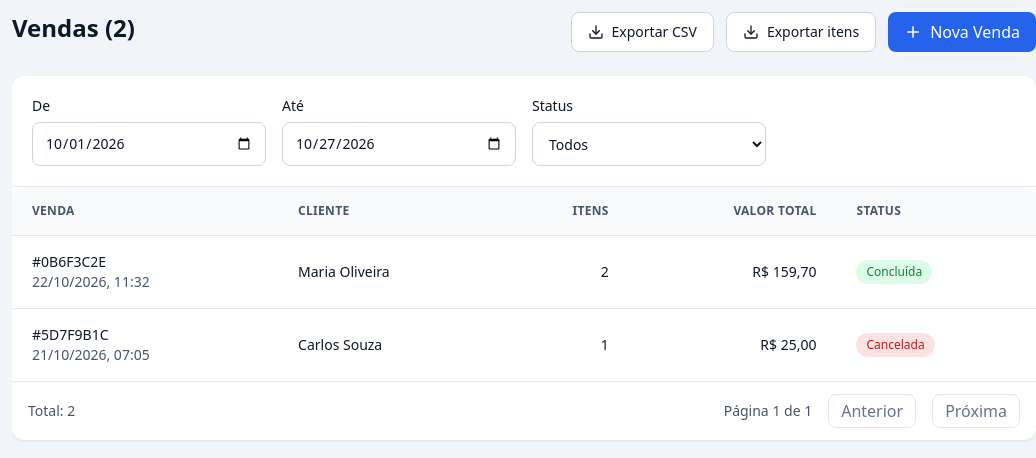
Test case: SaleListPage: período e status na lista › período inválido não consulta a lista
Type "2020-01-01" into the date field labelled "De" at (149, 144), box left=32, top=122, right=266, bottom=166
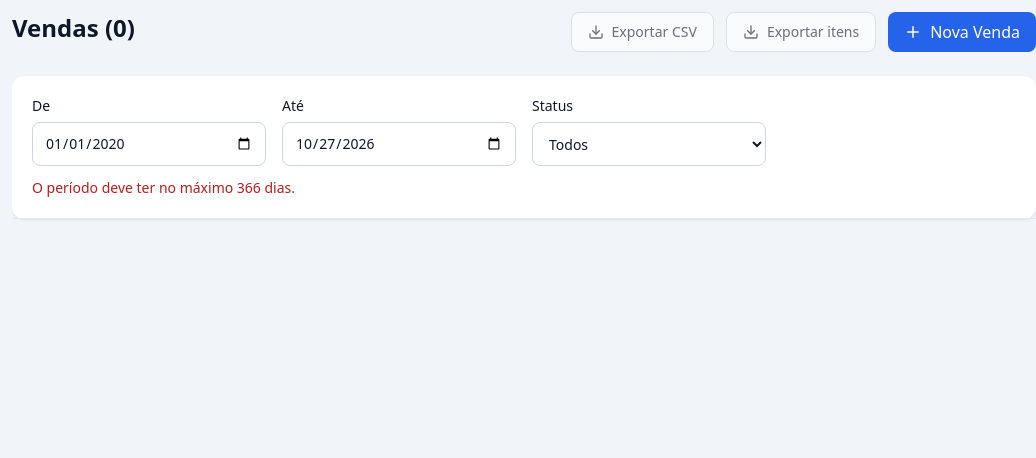
Result: the text "O período deve ter no máximo 366 dias." is shown at left=32, top=178, right=295, bottom=197
